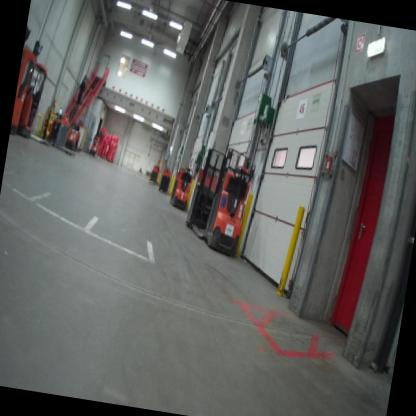forklift: (14, 36, 68, 146), (10, 17, 41, 136)
pallet_truck: (199, 140, 264, 260), (178, 137, 235, 252), (44, 106, 86, 161), (166, 155, 195, 217), (59, 115, 90, 155), (156, 162, 175, 197), (144, 158, 162, 189)
